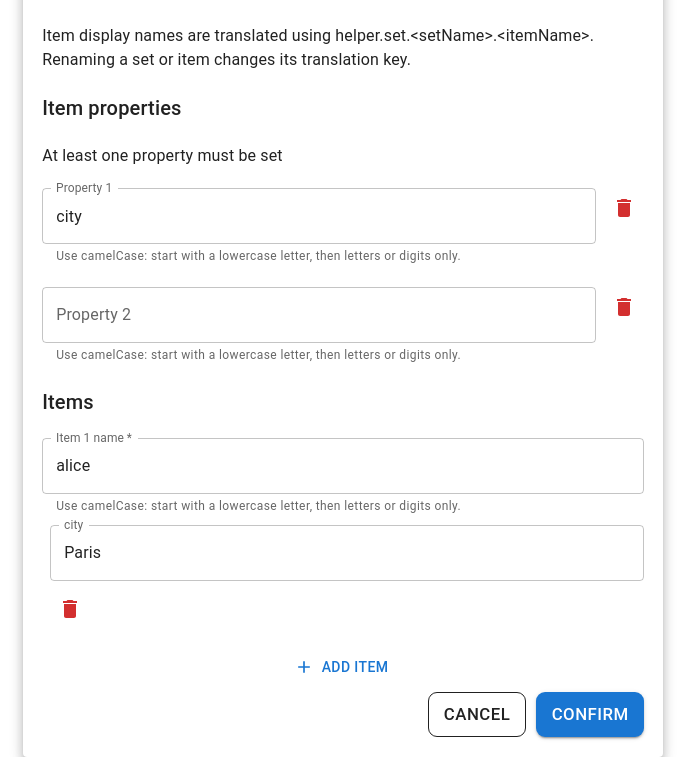
Test: SetEditorScreen › shows API errors and does not close on failure
This screenshot has width=687, height=757.
(page scrolled)
Click the button "Confirm".
click(590, 715)  # box top-left (536, 692), bottom-right (644, 738)
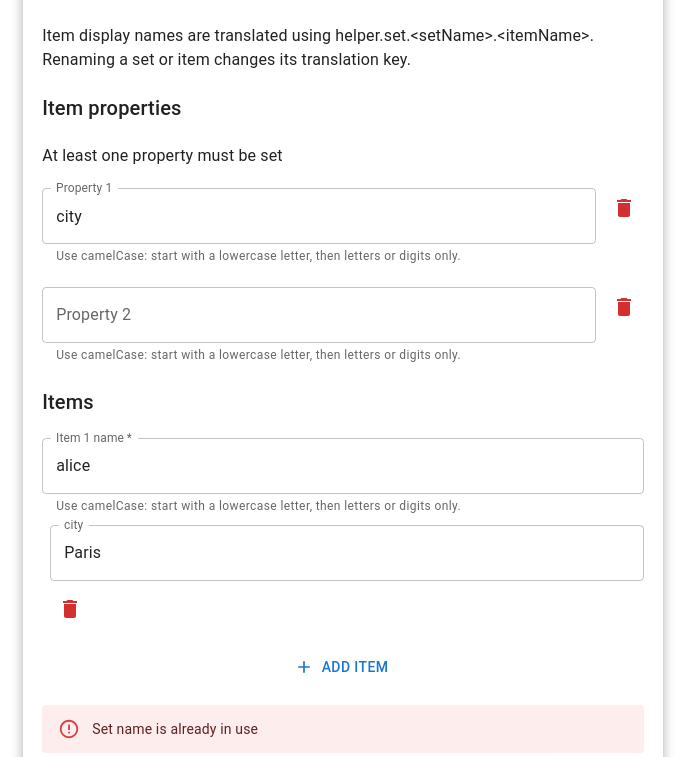
Result: the text "Set name is already in use" is shown at top-left (92, 721), bottom-right (258, 737)
